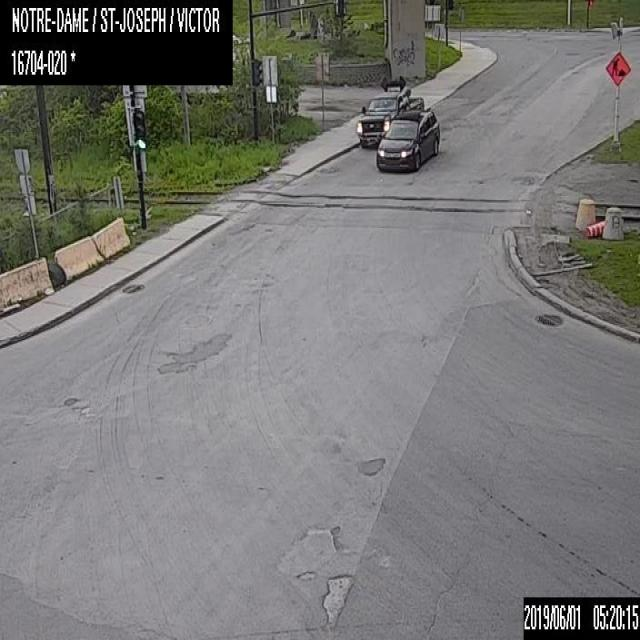construction: (603, 48, 632, 85), (584, 216, 604, 237)
vehicle: (355, 75, 424, 149), (375, 110, 440, 173)
